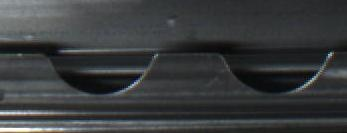twou: (56, 44, 316, 102)
